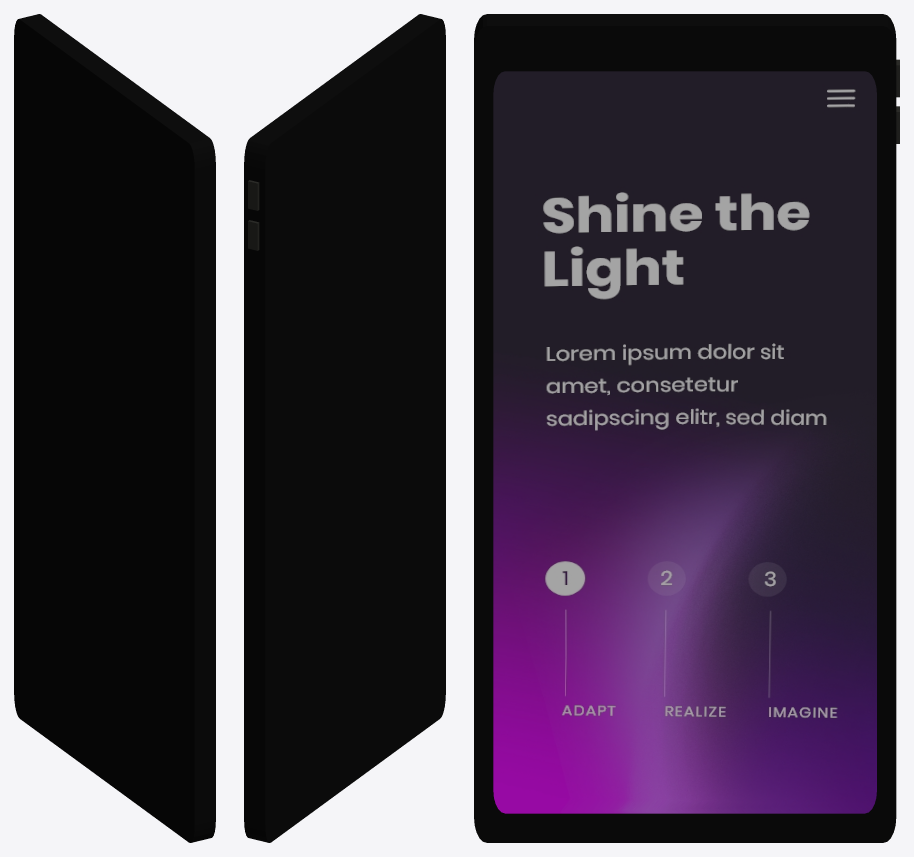
Rendered from phone.gltf.
3 views of the same model, side by side, from view 1: azimuth 30°, elevation 25°; view 2: azimuth 150°, elevation 25°; view 3: azimuth 270°, elevation 25° (orthographic). The views are drawn at different scales.
Parts seen in each view (by area): view 1: Phone; view 2: Phone; view 3: Phone.
Part boxes in pixels (x1,y1,x2,y2): Phone: (14,14,215,842); Phone: (244,14,445,842); Phone: (474,14,899,842).
Bounding box in the file's own units: 0.2138 × 6.77 × 3.2.
3 materials, 1 textured.
